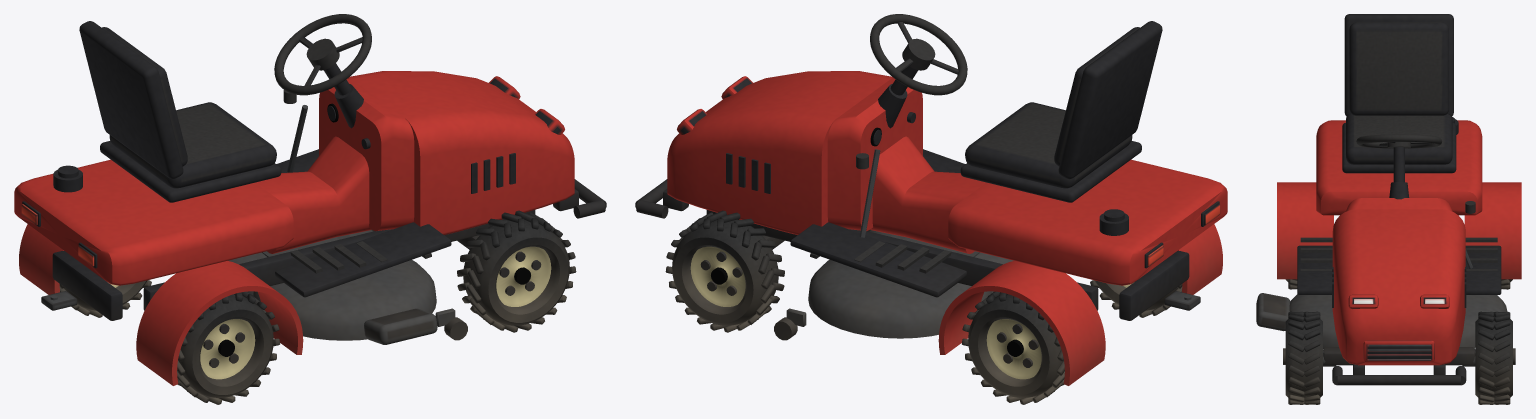
File: teimoso.glb
The picture shows the model from 3 angles, left to right: view 1: azimuth 30°, elevation 25°; view 2: azimuth 150°, elevation 25°; view 3: azimuth 270°, elevation 25°; orthographic projection. The views are drawn at different scales.
Visible parts, largest first — view 1: body, hood, trunk, wheel_fr_tire, wheel_rr_tire, wheel_rr_rim, wheel_fr_rim, bumper_front, wheel_rl_tire; view 2: body, hood, trunk, wheel_fl_tire, wheel_rl_tire, wheel_rl_rim, wheel_fl_rim, bumper_front, wheel_rr_tire; view 3: body, hood, trunk, wheel_fl_tire, wheel_fr_tire, bumper_front.
Boxes of the visible parts, bbox=[...] form: body: bbox=[14, 14, 535, 385]; hood: bbox=[348, 71, 574, 234]; trunk: bbox=[228, 230, 467, 344]; wheel_fr_tire: bbox=[457, 210, 576, 332]; wheel_rr_tire: bbox=[177, 291, 279, 404]; wheel_rr_rim: bbox=[199, 317, 263, 386]; wheel_fr_rim: bbox=[495, 245, 559, 314]; bumper_front: bbox=[553, 179, 606, 218]; wheel_rl_tire: bbox=[59, 280, 151, 317]; body: bbox=[706, 14, 1227, 385]; hood: bbox=[667, 71, 893, 234]; trunk: bbox=[774, 230, 1013, 340]; wheel_fl_tire: bbox=[665, 210, 784, 332]; wheel_rl_tire: bbox=[962, 291, 1064, 404]; wheel_rl_rim: bbox=[978, 317, 1042, 386]; wheel_fl_rim: bbox=[682, 245, 746, 314]; bumper_front: bbox=[635, 179, 688, 218]; wheel_rr_tire: bbox=[1090, 280, 1182, 317]; body: bbox=[1277, 14, 1521, 366]; hood: bbox=[1332, 209, 1466, 365]; trunk: bbox=[1256, 293, 1515, 364]; wheel_fl_tire: bbox=[1475, 311, 1512, 404]; wheel_fr_tire: bbox=[1285, 311, 1322, 404]; bumper_front: bbox=[1332, 364, 1466, 385].
Size of the model in its own units: 2.03 by 1.18 by 1.12.
5 materials, 5 textured.
